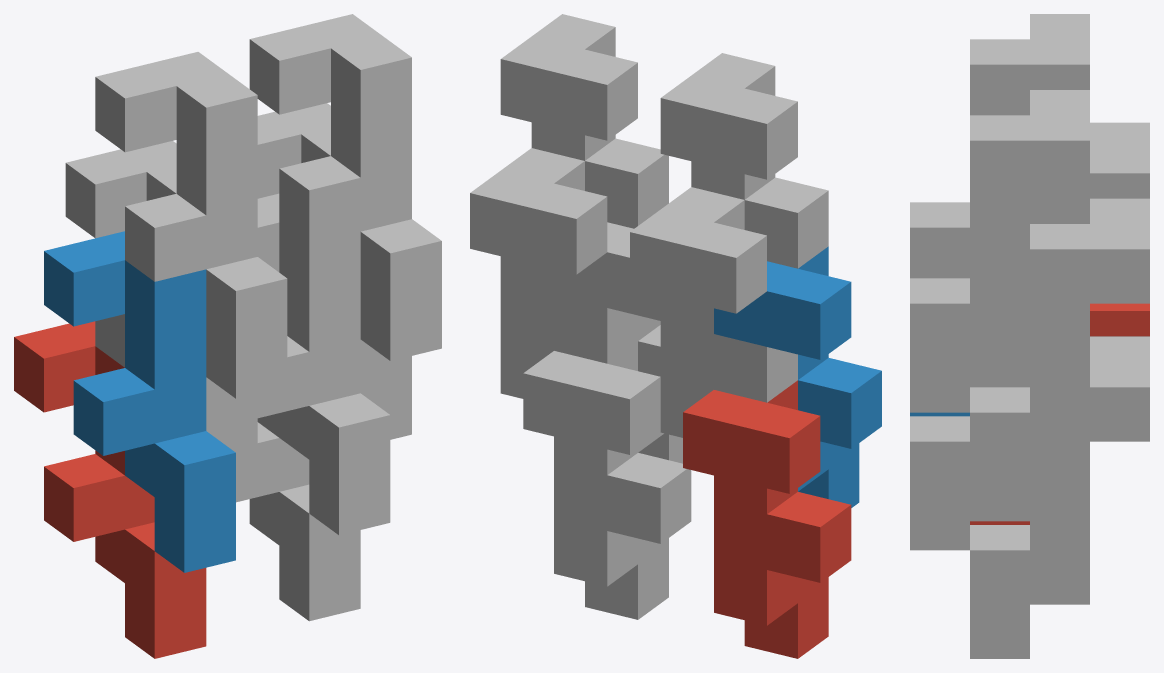
The model's file is tiling.obj.
The picture shows the model from 3 angles, left to right: view 1: azimuth 30°, elevation 25°; view 2: azimuth 150°, elevation 25°; view 3: azimuth 270°, elevation 25°; orthographic projection. The views are drawn at different scales.
Visible parts, largest first — view 1: copy_1_domain_4, copy_1_domain_8, copy_1_domain_2, copy_1_domain_6, copy_1_domain_1, copy_1_domain_5, copy_1_domain_3, copy_1_domain_7; view 2: copy_1_domain_1, copy_1_domain_5, copy_1_domain_7, copy_1_domain_3, copy_1_domain_4, copy_1_domain_8, copy_1_domain_2, copy_1_domain_6; view 3: copy_1_domain_7, copy_1_domain_8, copy_1_domain_5, copy_1_domain_4, copy_1_domain_6, copy_1_domain_3, copy_1_domain_1.
Boxes of the visible parts, box(x1,y1,x2,y2) form: copy_1_domain_4: box(95, 52, 287, 398); copy_1_domain_8: box(249, 14, 441, 360); copy_1_domain_2: box(44, 231, 235, 572); copy_1_domain_6: box(257, 193, 390, 535); copy_1_domain_1: box(14, 321, 206, 658); copy_1_domain_5: box(236, 413, 360, 621); copy_1_domain_3: box(65, 141, 257, 477); copy_1_domain_7: box(257, 103, 411, 439); copy_1_domain_1: box(683, 380, 851, 658); copy_1_domain_5: box(523, 341, 691, 619); copy_1_domain_7: box(470, 148, 637, 398); copy_1_domain_3: box(630, 187, 797, 437); copy_1_domain_4: box(660, 53, 828, 268); copy_1_domain_8: box(500, 14, 668, 228); copy_1_domain_2: box(714, 246, 881, 507); copy_1_domain_6: box(554, 222, 682, 463); copy_1_domain_7: box(970, 198, 1149, 521); copy_1_domain_8: box(910, 90, 1089, 412); copy_1_domain_5: box(970, 336, 1149, 658); copy_1_domain_4: box(910, 14, 1089, 278); copy_1_domain_6: box(910, 358, 1029, 550); copy_1_domain_3: box(1030, 122, 1149, 223); copy_1_domain_1: box(970, 303, 1149, 524).
Bounding box in the file's own units: 6 × 10 × 4.
